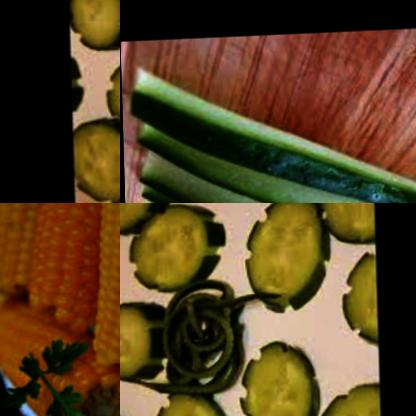corn: (0, 302, 120, 416), (21, 203, 120, 334), (74, 203, 120, 378), (0, 203, 55, 306)
cucumber: (129, 58, 416, 203), (120, 203, 231, 301), (236, 203, 326, 316), (236, 345, 325, 416), (61, 113, 120, 203), (336, 250, 379, 353), (120, 294, 165, 386), (57, 0, 120, 59), (303, 383, 381, 416), (96, 48, 120, 154), (318, 203, 373, 248), (149, 388, 235, 416), (120, 203, 175, 239)
